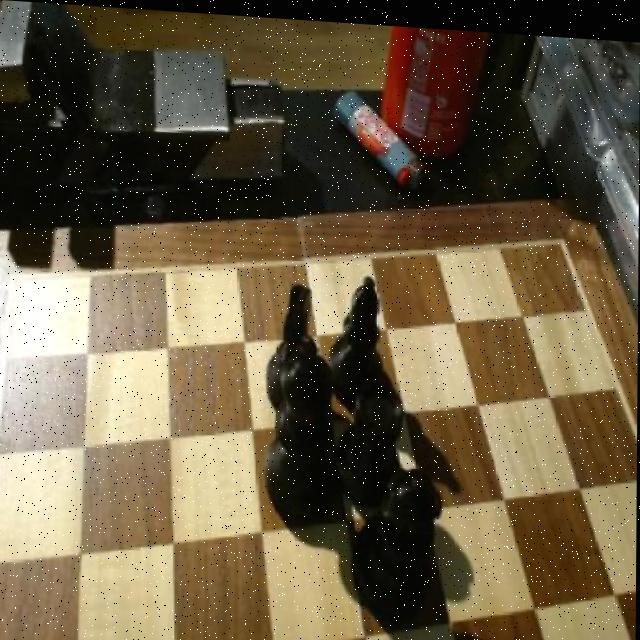bishop: (329, 265, 385, 392)
black-bishop: (256, 331, 340, 523)
black-king: (264, 279, 312, 397)
black-pawn: (344, 453, 445, 607)
black-queen: (331, 373, 404, 500)
